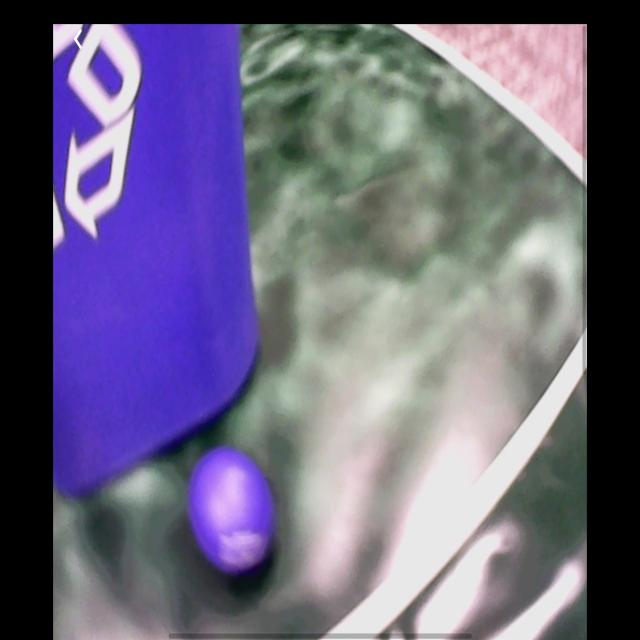ball: (186, 449, 278, 575)
